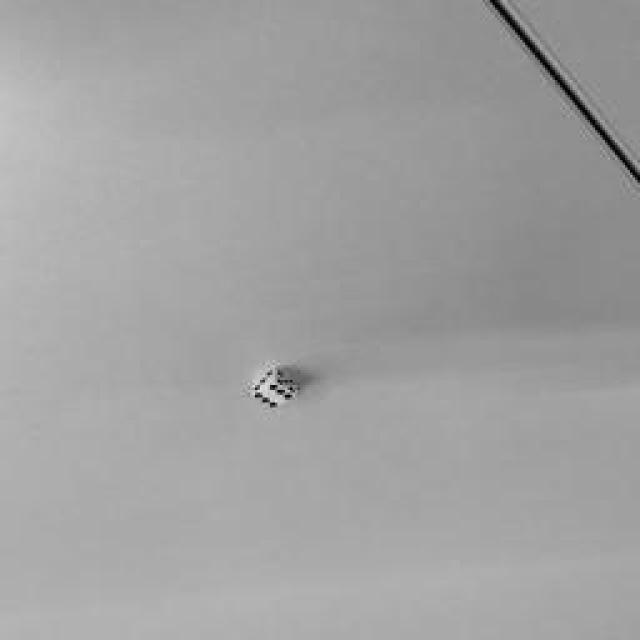dice_6: (252, 382, 296, 408)
